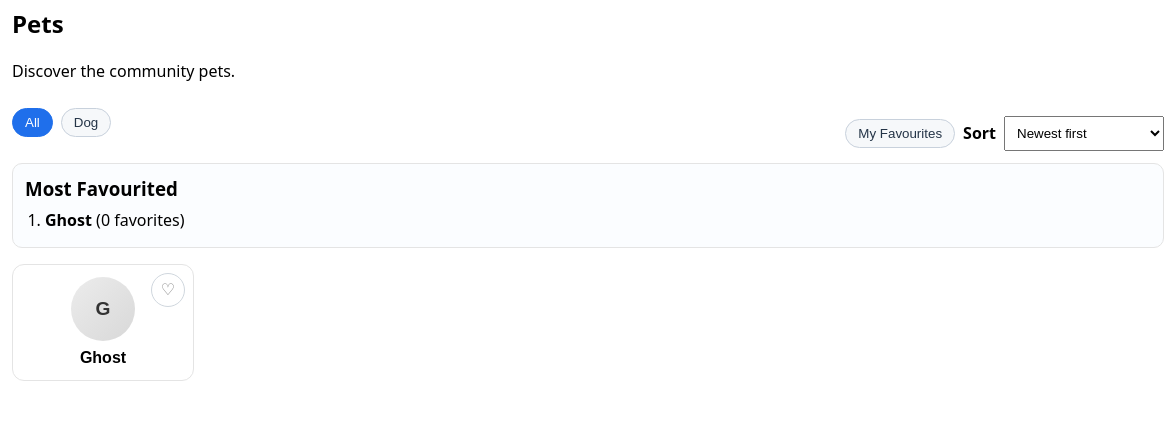
it: Home page › shows error and skips favorite API when selected pet has no id
The image size is (1176, 426).
Step 1. Click the button named "Add to favorites" → [168, 290], box x1=151 y1=273 x2=185 y2=307
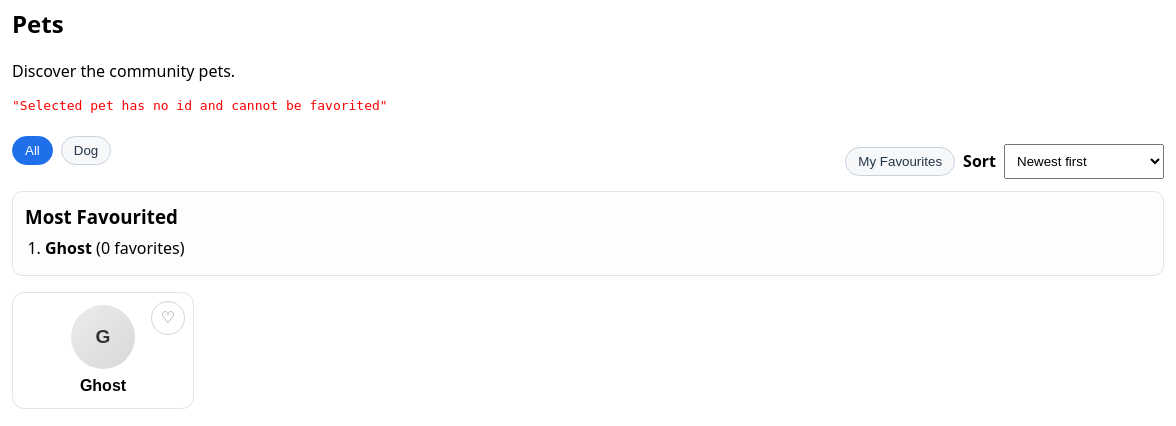
expect the text "\"Selected pet has no id and cannot be favorited\"" is shown: met, box x1=12 y1=98 x2=388 y2=113
